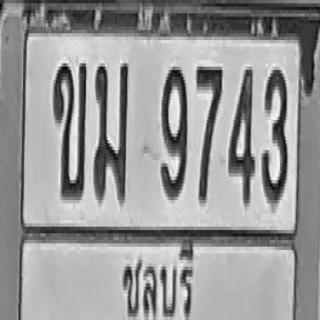A02: (53, 58, 87, 198)
A33: (93, 60, 129, 200)
N03: (262, 65, 287, 202)
N04: (228, 65, 255, 202)
N07: (196, 62, 222, 202)
N09: (161, 63, 187, 197)
